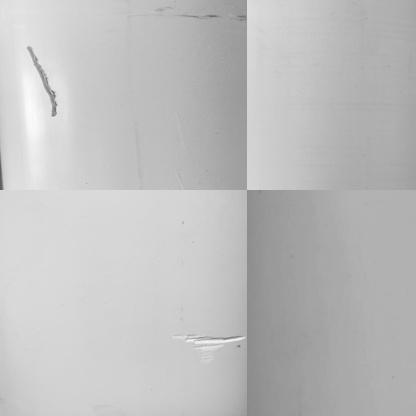kongdong: (24, 41, 63, 122)
sunshang: (168, 328, 240, 365)
